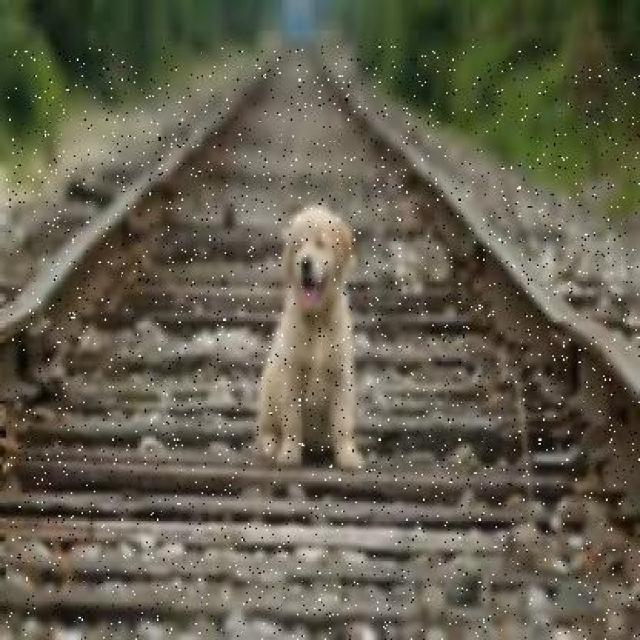danger: (250, 205, 372, 472)
rail: (6, 46, 640, 640)
